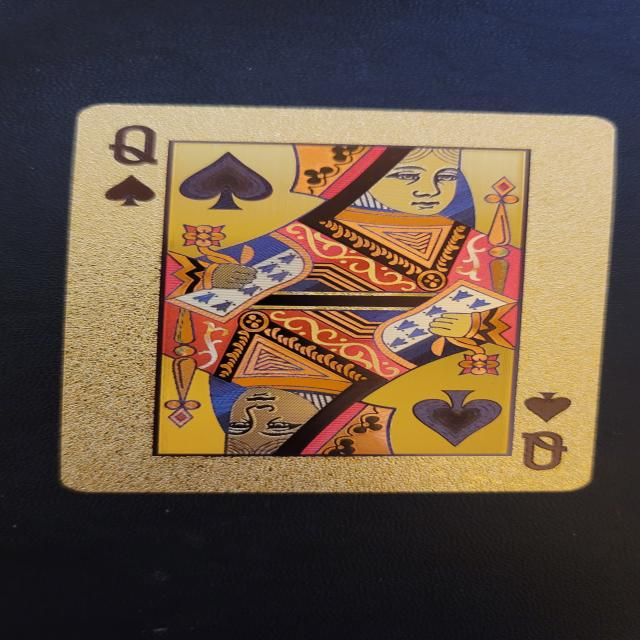Queen of spades: (54, 104, 621, 493)
